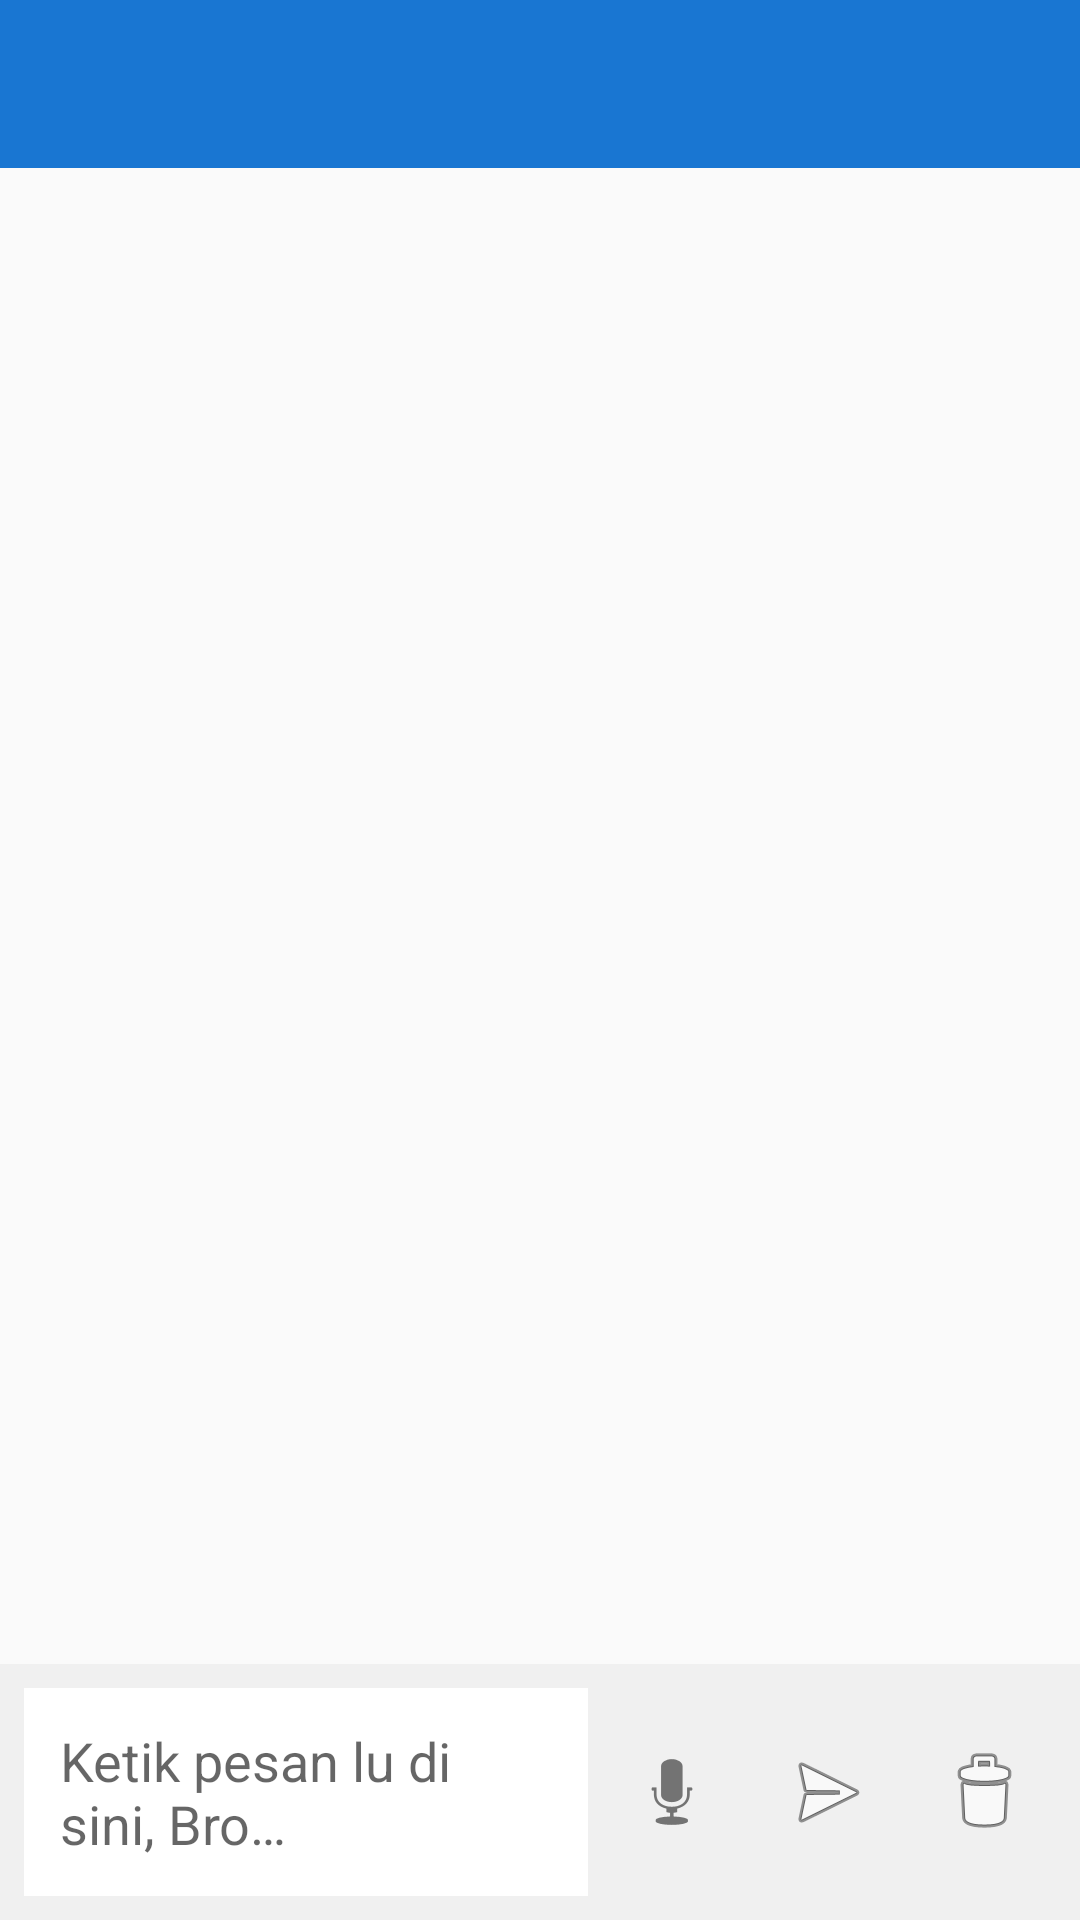

Point at icon controls on the screen. Image size 1080w x 1920h, points as (x=x, y=y).
Hapus: (x=984, y=1790)
Kirim: (x=829, y=1792)
Mikrofon: (x=672, y=1792)
